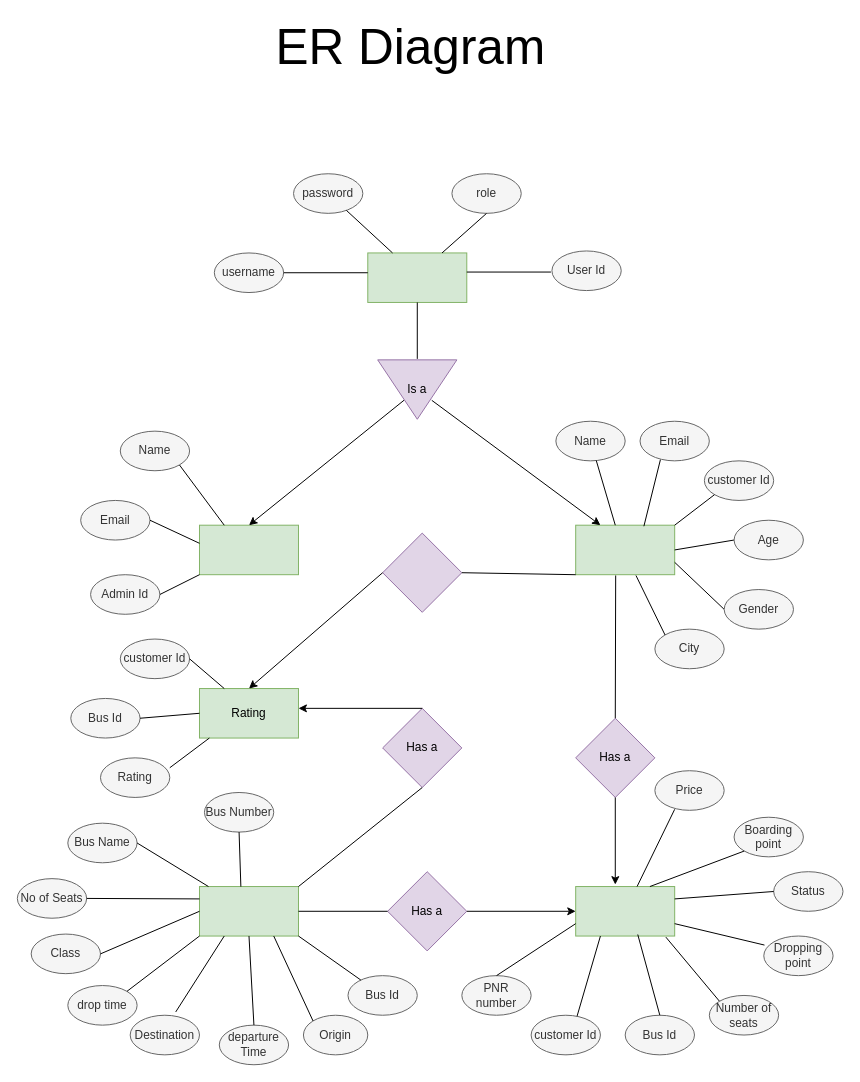
This 860x1082 diagram has some shape labels left out. The centre of each missing label's shape, as x and y in pixels:
Admin: point 248,549
Bus: point 248,911
Customer: point 625,549
Gives: point 422,572
Ticket: point 625,911
User: point 417,277
